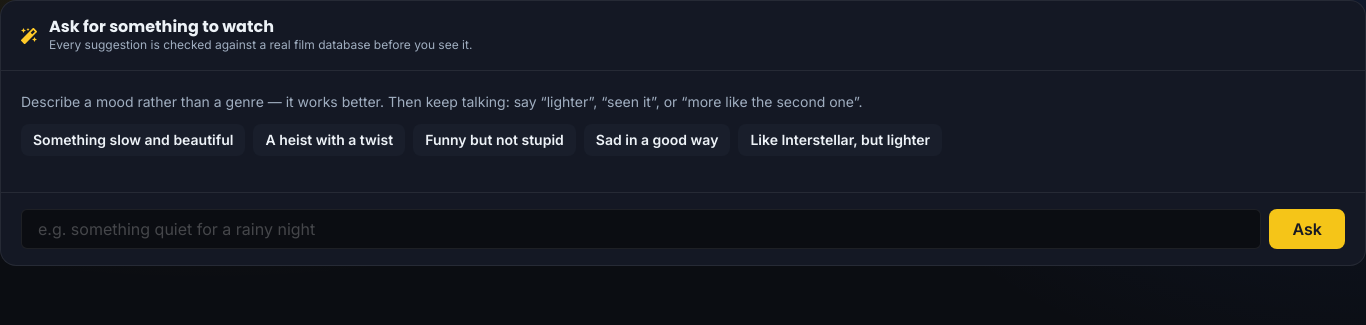
Test: the recommendation conversation › explains an expired session instead of failing silently
What coordinates should you click on to do the following:
click the button "A heist with a twist"
I would click on:
 (329, 140)
Its box is x1=253 y1=124 x2=405 y2=156.
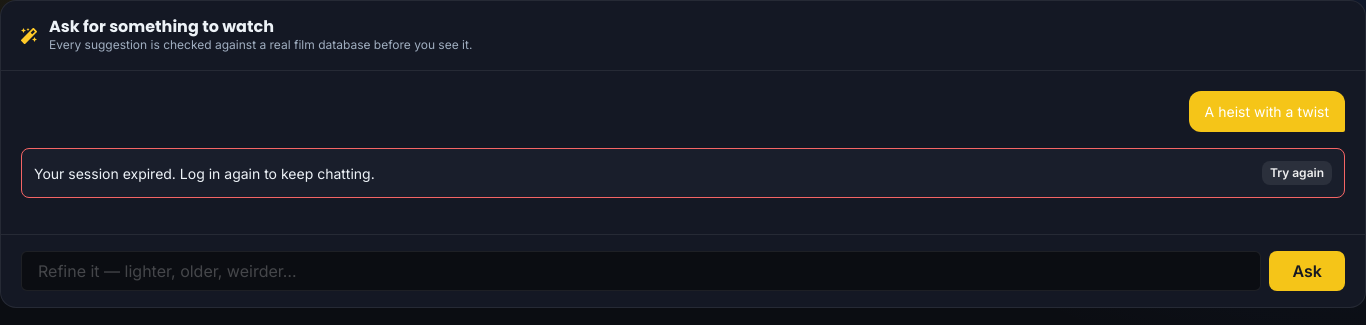
Expected: the text "Your session expired. Log in again to keep chatting." is shown, x1=34 y1=165 x2=375 y2=182
